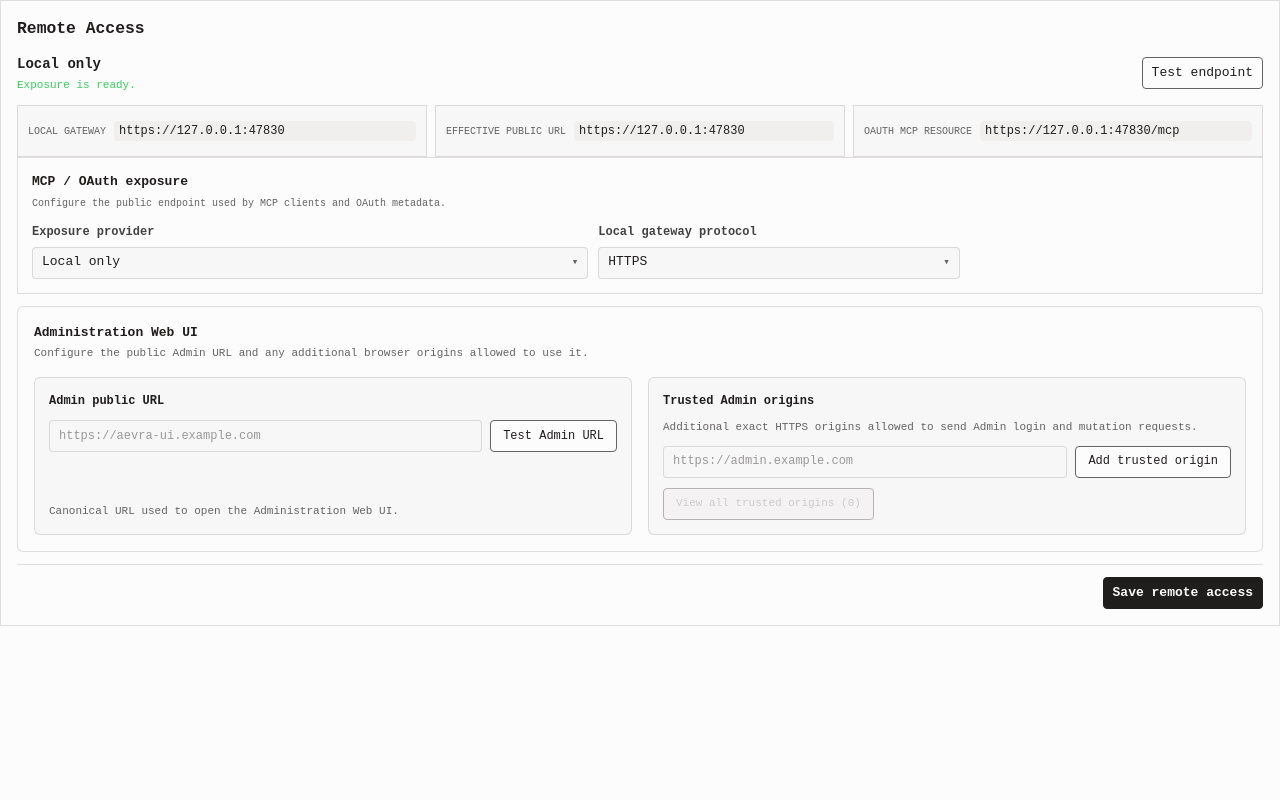
cloudflare oauth saves hostname derived URLs without Access fields
Click the button with aria-label "Exposure provider" at (81, 262), box [32, 247, 588, 279]
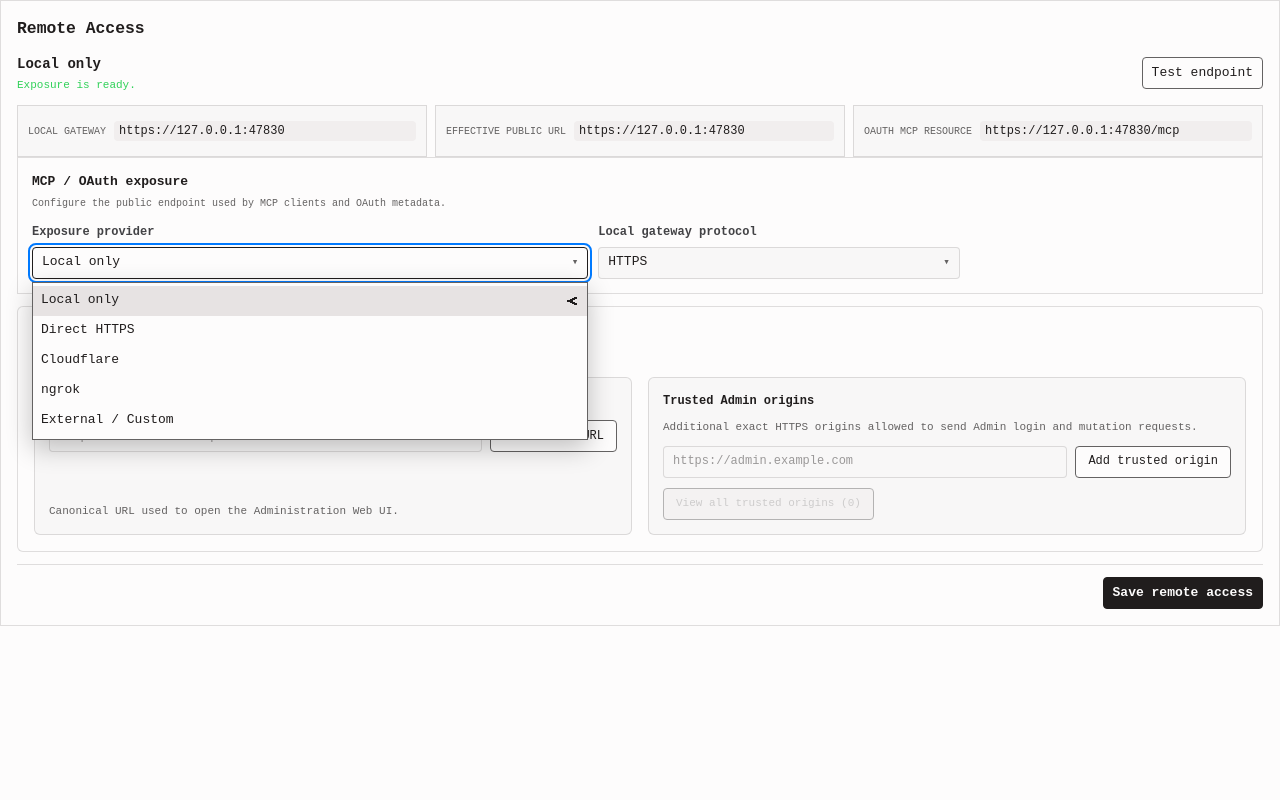
Click the option "Cloudflare" at (80, 360), box [33, 346, 587, 376]
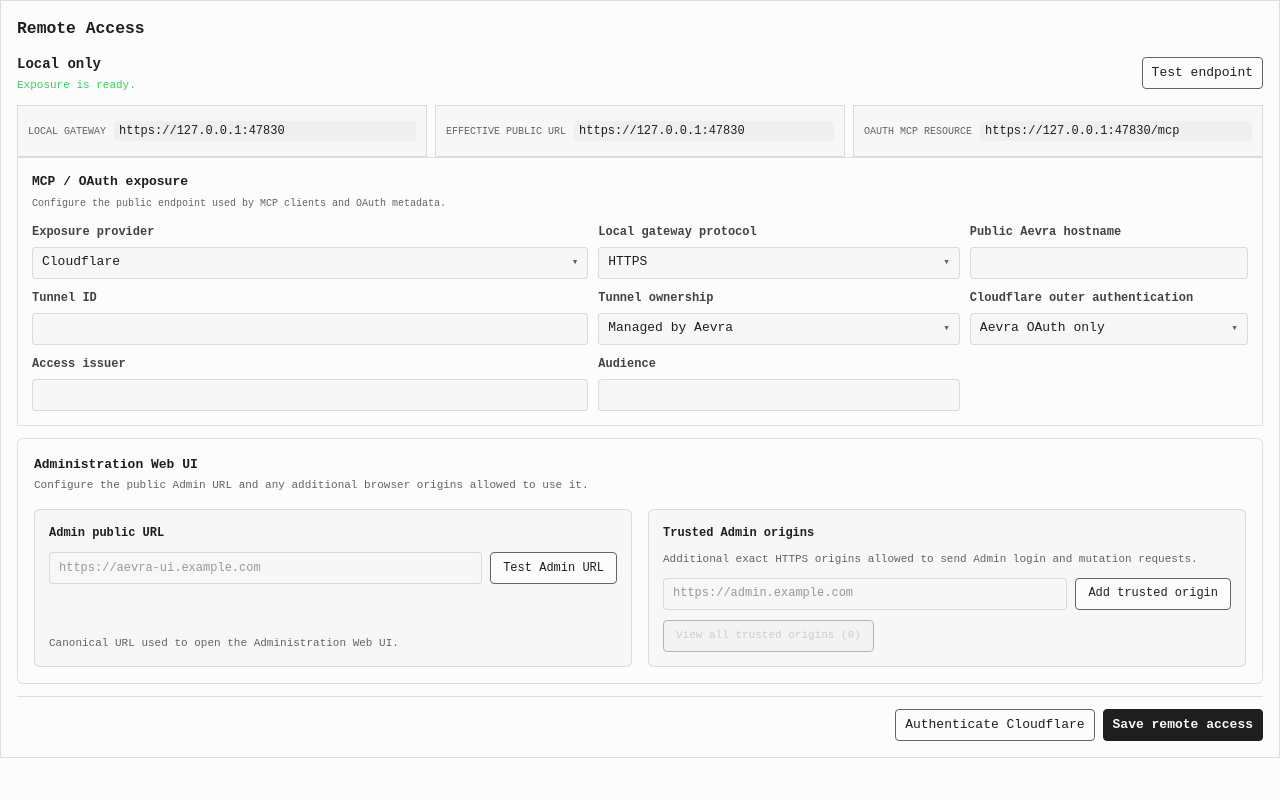
Type "aevra.example.com" into the field labelled "Public Aevra hostname" at (1109, 263), box [970, 247, 1248, 279]
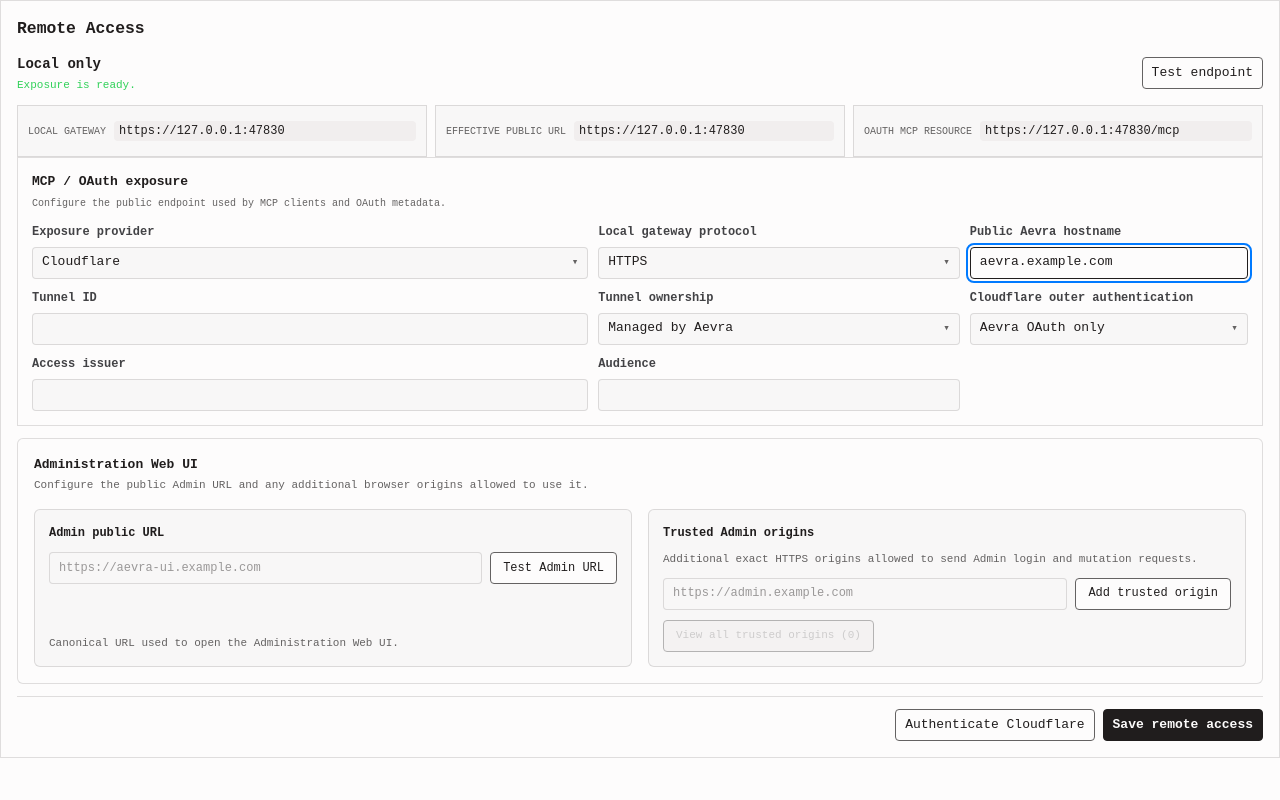
Type "tunnel-1" into the field labelled "Tunnel ID" at (310, 329), box [32, 313, 588, 345]
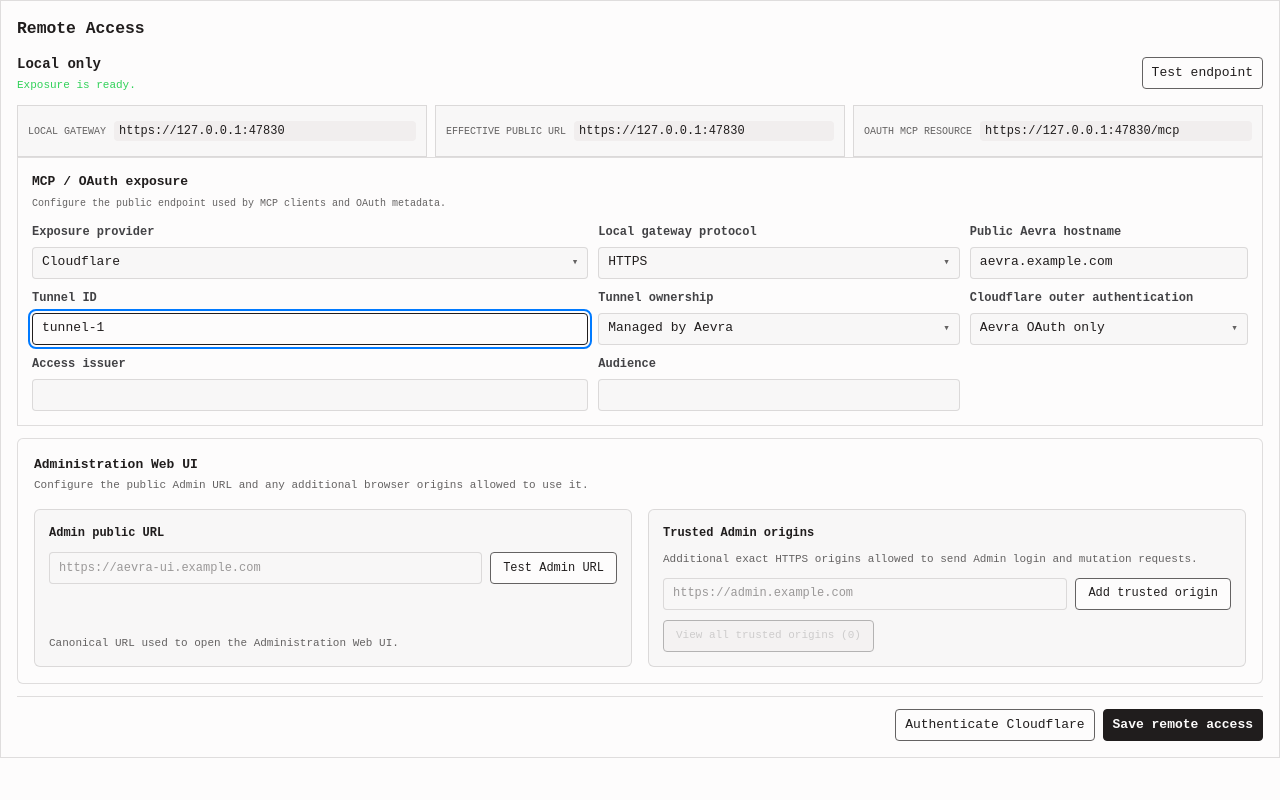
Click the button "Save remote access" at (1183, 725), box [1103, 709, 1263, 741]
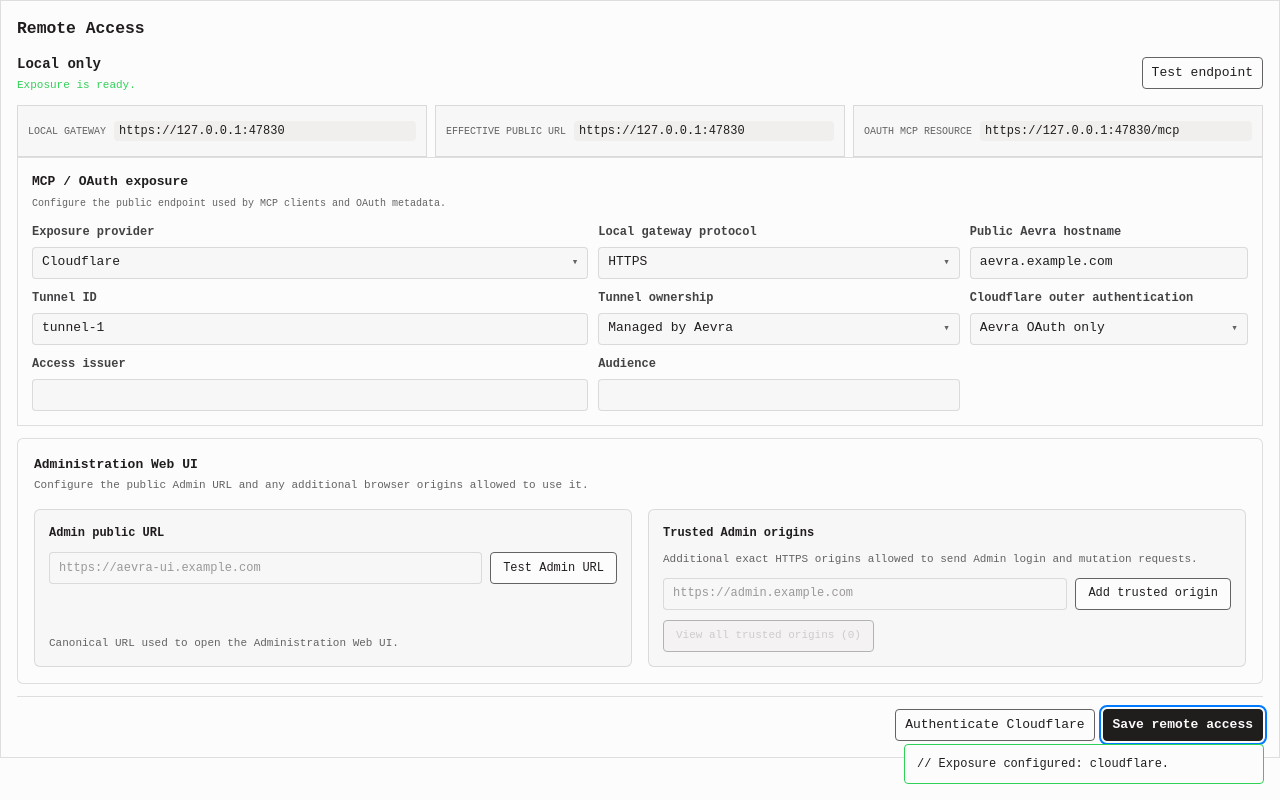
Now the text "Exposure configured: cloudflare." is shown, box [904, 744, 1264, 784]
